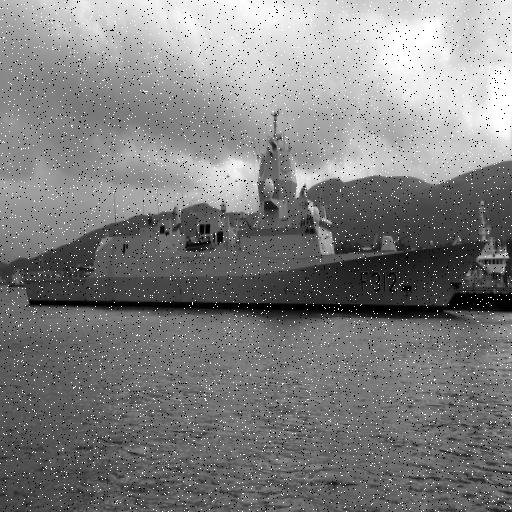Fragata: (21, 93, 488, 329)
